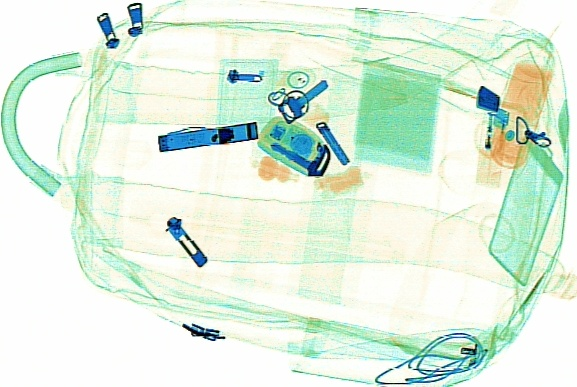lighter: (472, 100, 510, 190)
